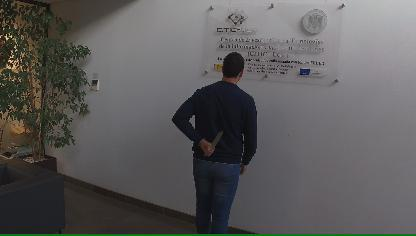knife: (202, 127, 224, 155)
